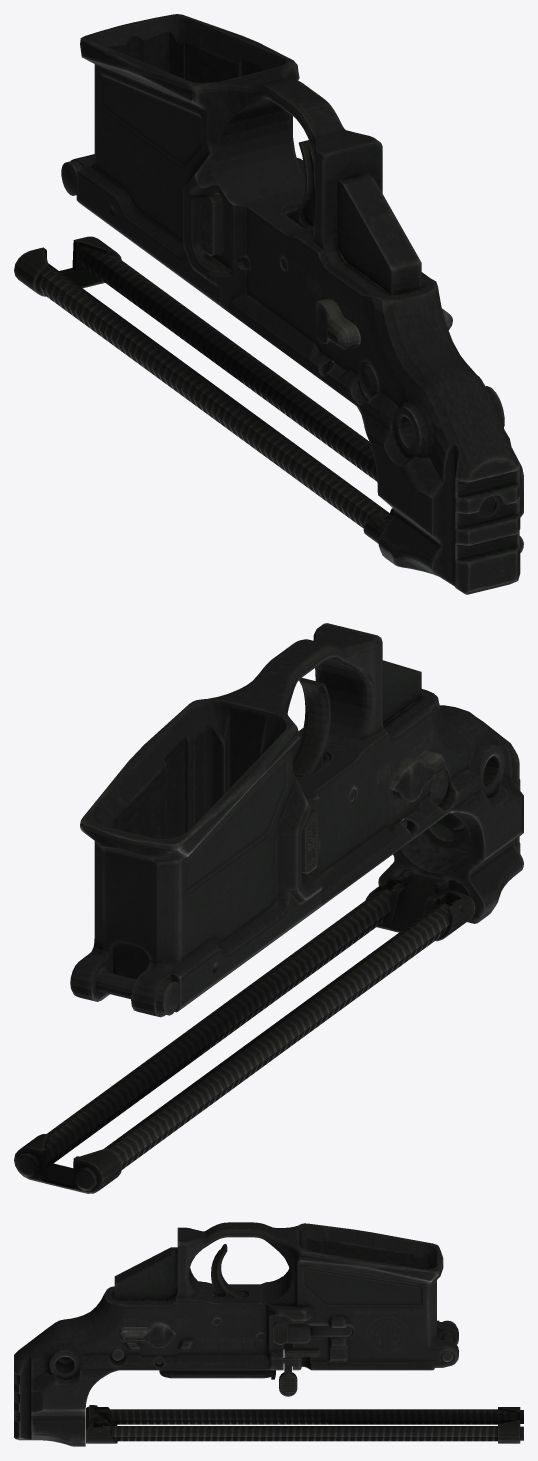
The picture shows the model from 3 angles, top to bottom: view 1: azimuth 30°, elevation 25°; view 2: azimuth 150°, elevation 25°; view 3: azimuth 270°, elevation 25°; orthographic projection. The views are drawn at different scales.
Visible parts, largest first — view 1: TW_5fbcc1d9016cce60e8341ab3_PZ_Import; view 2: TW_5fbcc1d9016cce60e8341ab3_PZ_Import; view 3: TW_5fbcc1d9016cce60e8341ab3_PZ_Import.
Part boxes in pixels (x1=…): TW_5fbcc1d9016cce60e8341ab3_PZ_Import: x1=14, y1=14, x2=523, y2=594; TW_5fbcc1d9016cce60e8341ab3_PZ_Import: x1=14, y1=623, x2=523, y2=1193; TW_5fbcc1d9016cce60e8341ab3_PZ_Import: x1=14, y1=1222, x2=523, y2=1446.
Bounding box in the file's own units: 0.0232 × 0.1447 × 0.0653.
Materials: 1 (1 with a texture image).
